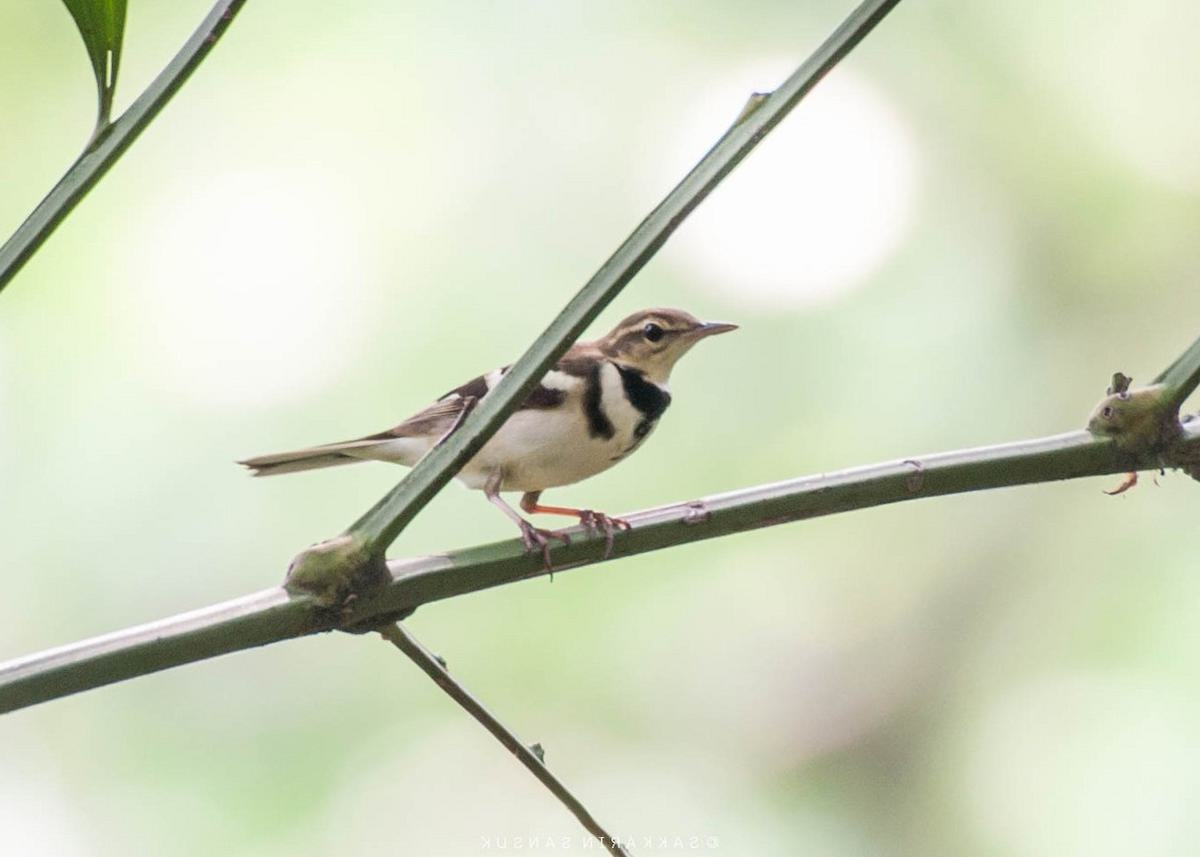wagtail: (245, 310, 720, 534)
